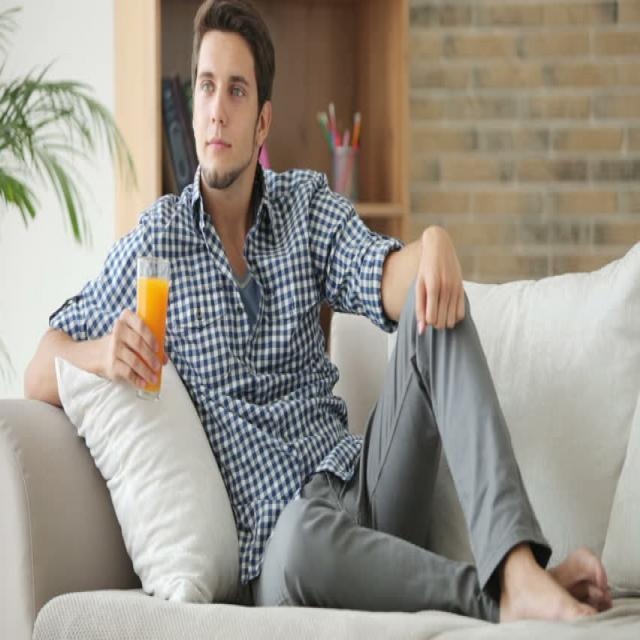sitting: (18, 13, 624, 633)
